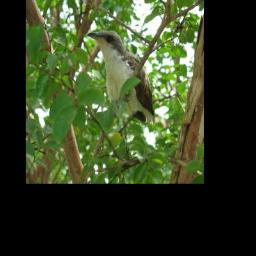Cuckoo: (88, 29, 157, 127)
